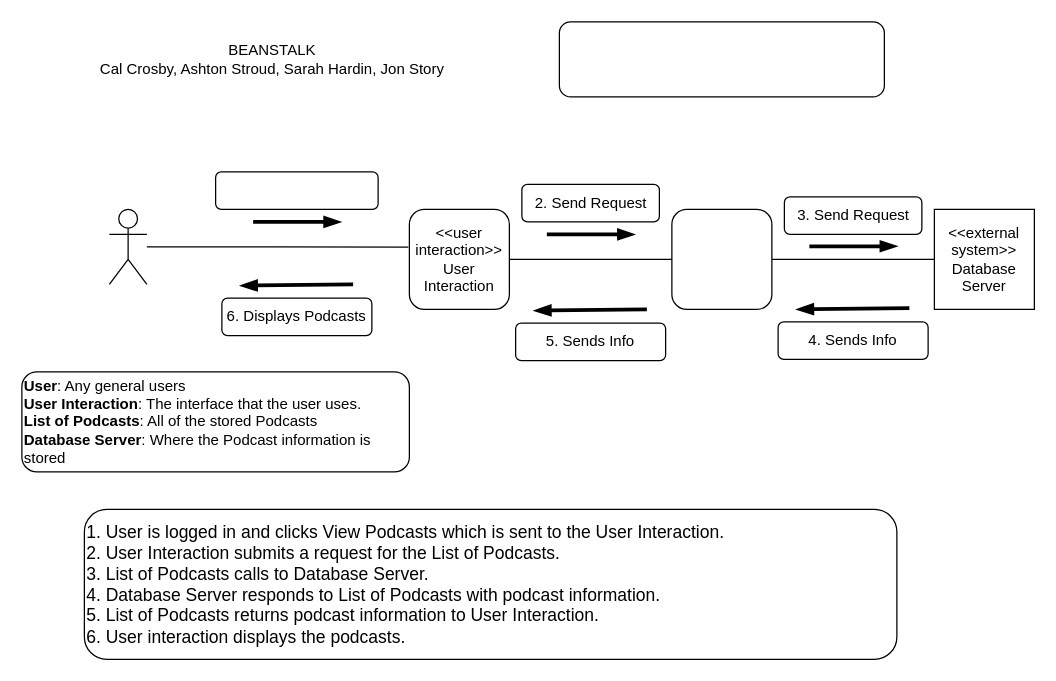
Some shapes in this 1056 by 681 pixel diagram are drawn without their labels. The centre of each missing label's shape, as x and y in pixels:
1. Request Podcasts: pixel 296 190
<<entity>> List of Podcasts: pixel 721 258
User: pixel 127 246
View Podcasts Interaction Diagram: pixel 721 59
